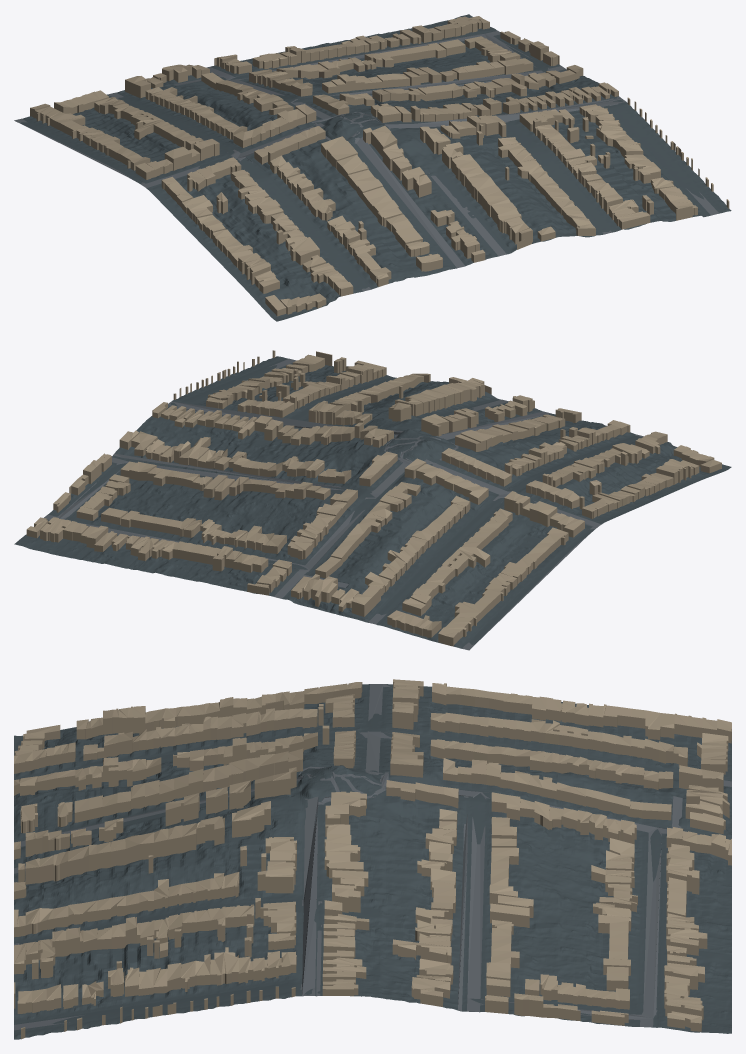
The model's file is epsg26910-1425-10871.lod0.glb.
3 views of the same model, one above another, from view 1: azimuth 30°, elevation 25°; view 2: azimuth 150°, elevation 25°; view 3: azimuth 270°, elevation 25° (orthographic). The views are drawn at different scales.
Visible parts, largest first — view 1: epsg26910-1425-10871-lod0; view 2: epsg26910-1425-10871-lod0; view 3: epsg26910-1425-10871-lod0.
Part boxes in pixels (<box>): epsg26910-1425-10871-lod0: <box>14,14,731,321</box>; epsg26910-1425-10871-lod0: <box>14,350,731,650</box>; epsg26910-1425-10871-lod0: <box>14,679,731,1039</box>.
Bounding box in the file's own units: 384 × 57.42 × 384.
